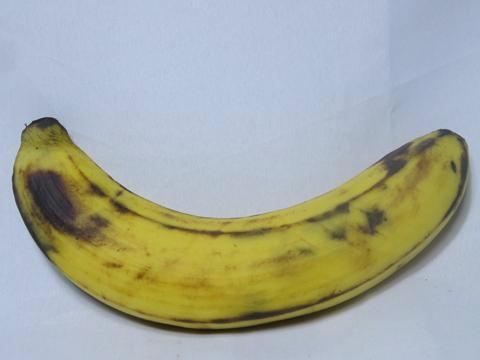ripe: (10, 108, 479, 327)
